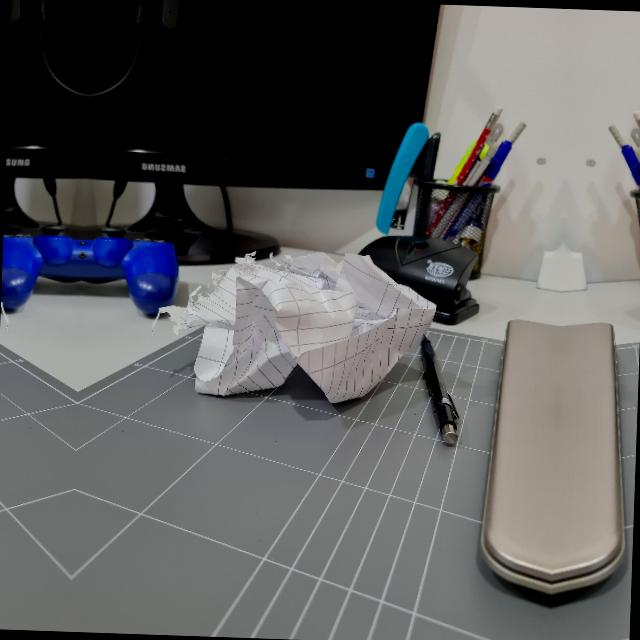paper: (166, 254, 436, 406)
